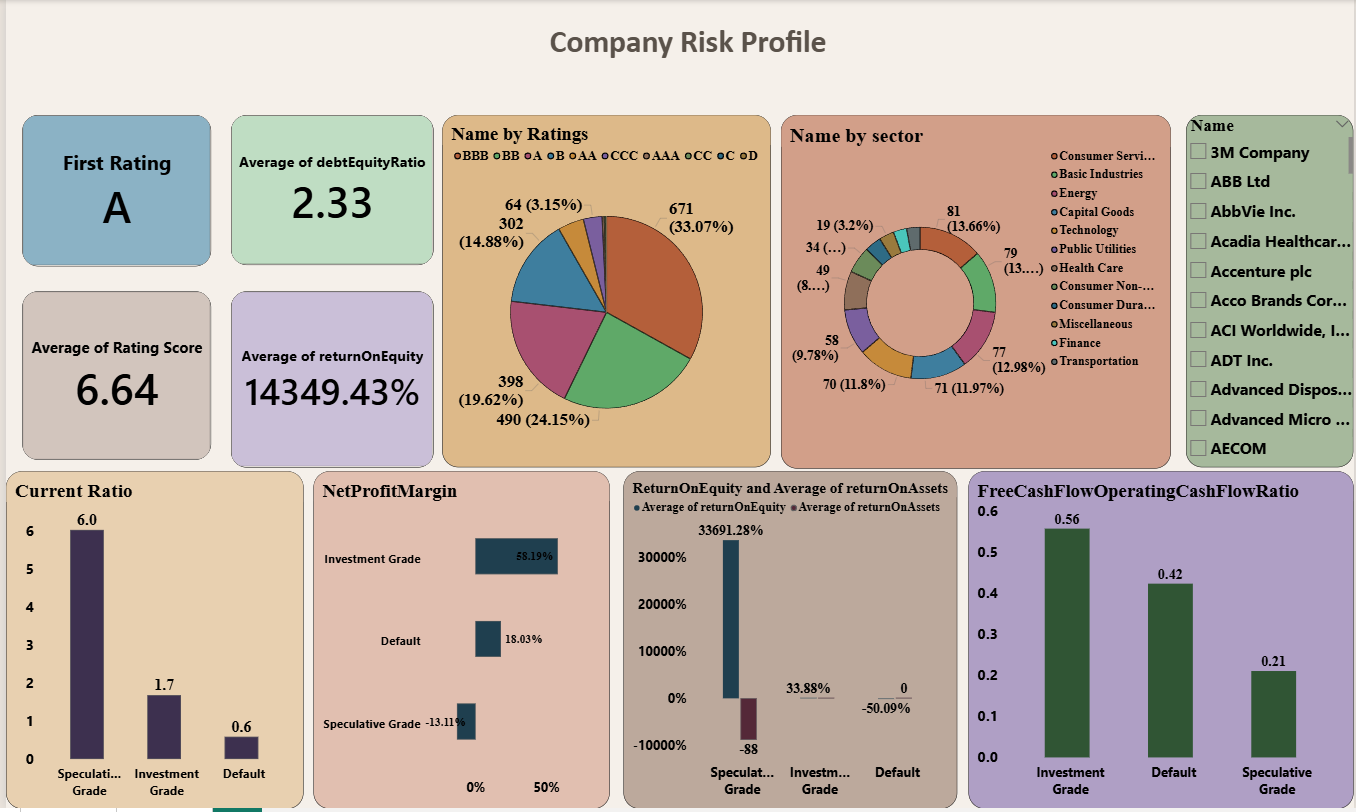

The page's visual inventory and layout, read from the dashboard file:
{"tool":"powerbi","page":{"name":"Page 3","canvas":[2600,1500],"ordinal":2},"visuals":[{"type":"cardVisual","fields":{"Data":["Min(Data.Rating)"]},"box":[30.1,213.4,350.2,280.6],"z":0},{"type":"cardVisual","fields":{"Data":["Avg(Data.Rating Score)"]},"box":[30.1,540.4,350.2,313.1],"z":1000},{"type":"cardVisual","fields":{"Data":["Avg(Data.debtEquityRatio)"]},"box":[417.4,213.4,375.7,278.3],"z":2000},{"type":"cardVisual","fields":{"Data":["Avg(Data.returnOnEquity)"]},"box":[417.4,540.4,375.7,327],"z":3000},{"type":"clusteredColumnChart","title":"Current Ratio","fields":{"Category":["Data.Rating Category"],"Y":["Avg(Data.currentRatio)"]},"box":[0,874.3,552,626.2],"z":4000},{"type":"clusteredBarChart","title":"NetProfitMargin","fields":{"Category":["Data.Rating Category"],"Y":["Avg(Data.netProfitMargin)"]},"box":[570.5,874.3,549.6,626.2],"z":5000},{"type":"clusteredColumnChart","title":"ReturnOnEquity and Average of returnOnAssets","fields":{"Category":["Data.Rating Category"],"Y":["Avg(Data.returnOnEquity)","Avg(Data.returnOnAssets)"]},"box":[1145.6,874.3,619.2,626.2],"z":6000},{"type":"clusteredColumnChart","title":"FreeCashFlowOperatingCashFlowRatio","fields":{"Category":["Data.Rating Category"],"Y":["Avg(Data.freeCashFlowOperatingCashFlowRatio)"]},"box":[1784.5,874.7,791.7,625.8],"z":7000},{"type":"pieChart","title":"Name by Ratings","fields":{"Category":["Data.Rating"],"Y":["CountNonNull(Data.Name)"]},"box":[809.4,213.4,609.9,654],"z":8000},{"type":"donutChart","title":" Name by sector","fields":{"Category":["Data.Sector"],"Y":["Count(Data.Name)"]},"box":[1437.9,213.4,723.6,656.3],"z":9000},{"type":"slicer","fields":{"Values":["Data.Name"]},"box":[2189.2,213.6,387.1,653.5],"z":10000},{"type":"textbox","box":[30.1,20.9,2469.9,192.5],"z":11000}]}

Visuals, with their boxes on the page's 2600x1500 design canvas (x1, y1, x2, y2). These are canvas units, not pixel positions in the 1356x812 screenshot, which may show the page scaled, cropped or inside an application window:
cardVisual - Min(Data.Rating): (30,213,380,494)
cardVisual - Avg(Data.Rating Score): (30,540,380,854)
cardVisual - Avg(Data.debtEquityRatio): (417,213,793,492)
cardVisual - Avg(Data.returnOnEquity): (417,540,793,867)
"Current Ratio" clusteredColumnChart: (0,874,552,1500)
"NetProfitMargin" clusteredBarChart: (570,874,1120,1500)
"ReturnOnEquity and Average of returnOnAssets" clusteredColumnChart: (1146,874,1765,1500)
"FreeCashFlowOperatingCashFlowRatio" clusteredColumnChart: (1784,875,2576,1500)
"Name by Ratings" pieChart: (809,213,1419,867)
" Name by sector" donutChart: (1438,213,2162,870)
slicer - Data.Name: (2189,214,2576,867)
textbox: (30,21,2500,213)
